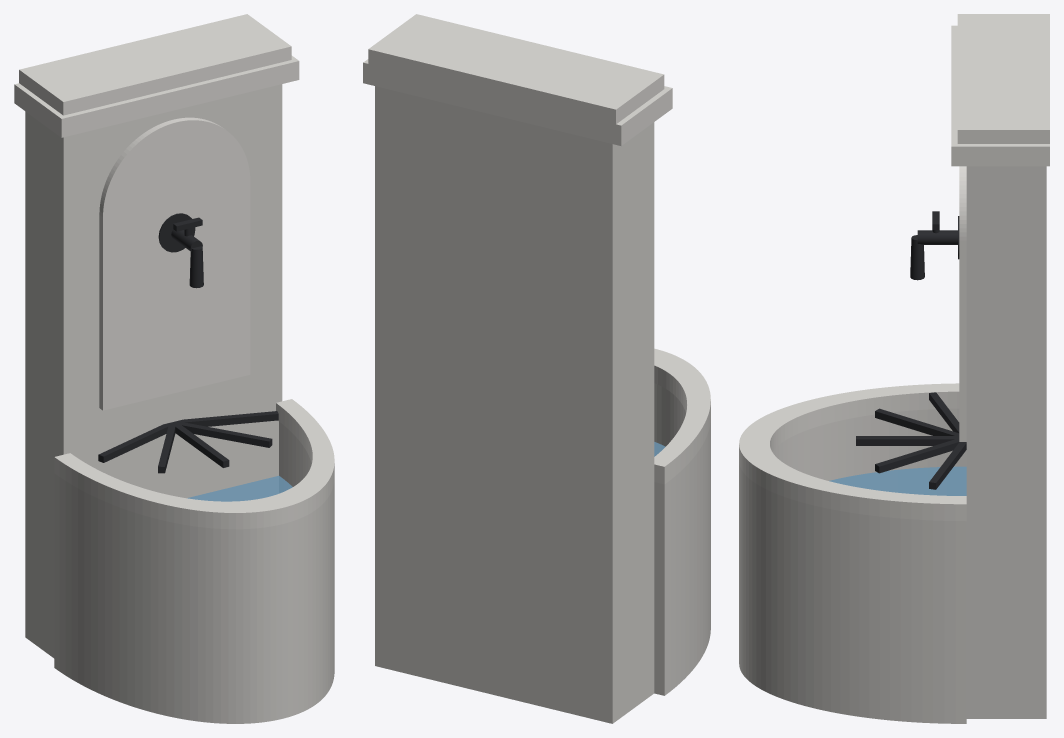
3 views of the same model, side by side, from view 1: azimuth 30°, elevation 25°; view 2: azimuth 150°, elevation 25°; view 3: azimuth 270°, elevation 25° (orthographic). The views are drawn at different scales.
Parts seen in each view (by area): view 1: panel-pilier, basin-paroi, panel-cadre, panel-chapeau, basin-levre, panel-corniche, eau, grille-0, grille-1, grille-4, robinet-rosace, grille-2 (+1 smaller); view 2: panel-pilier, panel-chapeau, basin-paroi, panel-corniche, basin-levre; view 3: basin-paroi, panel-pilier, basin-levre, panel-chapeau, panel-corniche, eau, panel-cadre, grille-2, grille-1, grille-3, grille-0, robinet-corps (+1 smaller).
Boxes of the visible parts, bbox=[...] form: panel-pilier: bbox=[25, 84, 282, 658]; basin-paroi: bbox=[54, 421, 334, 723]; panel-cadre: bbox=[99, 117, 250, 410]; panel-chapeau: bbox=[19, 14, 291, 115]; basin-levre: bbox=[54, 399, 334, 529]; panel-corniche: bbox=[14, 55, 299, 137]; eau: bbox=[187, 475, 292, 501]; grille-0: bbox=[175, 411, 278, 426]; grille-1: bbox=[179, 422, 272, 447]; grille-4: bbox=[98, 422, 174, 462]; robinet-rosace: bbox=[158, 213, 195, 252]; grille-2: bbox=[174, 421, 229, 467]; panel-pilier: bbox=[375, 86, 654, 723]; panel-chapeau: bbox=[368, 14, 664, 124]; basin-paroi: bbox=[654, 383, 710, 695]; panel-corniche: bbox=[363, 59, 672, 145]; basin-levre: bbox=[654, 348, 710, 484]; basin-paroi: bbox=[739, 408, 966, 723]; panel-pilier: bbox=[966, 166, 1046, 718]; basin-levre: bbox=[739, 383, 966, 521]; panel-chapeau: bbox=[957, 14, 1049, 143]; panel-corniche: bbox=[951, 25, 1049, 166]; eau: bbox=[829, 466, 966, 495]; panel-cadre: bbox=[959, 166, 966, 441]; grille-2: bbox=[856, 436, 959, 445]; grille-1: bbox=[875, 438, 959, 473]; grille-3: bbox=[875, 408, 959, 436]; grille-0: bbox=[929, 442, 966, 489]; robinet-corps: bbox=[917, 230, 957, 244].
Bounding box in the file's own units: 0.46 × 1.05 × 0.5.
